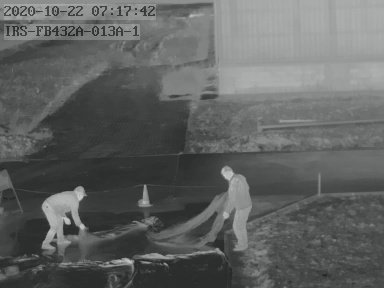person: (40, 183, 87, 250), (219, 164, 252, 252)
